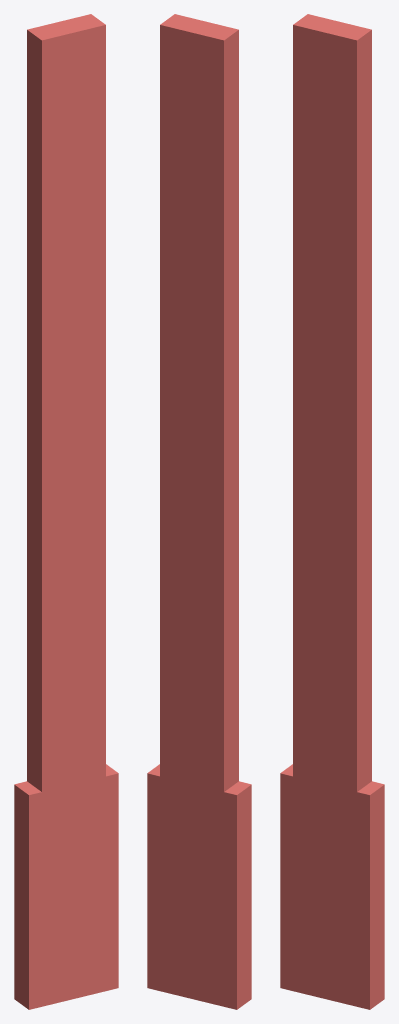
The model's file is DialNeedle.fbx.
3 renders of one model, left to right at view 1: azimuth 30°, elevation 25°; view 2: azimuth 150°, elevation 25°; view 3: azimuth 330°, elevation 25°, orthographic.
Parts seen in each view (by area): view 1: DialNeedle; view 2: DialNeedle; view 3: DialNeedle.
Part boxes in pixels (x1,y1,x2,y2): DialNeedle: (14, 14, 118, 1009); DialNeedle: (147, 14, 251, 1009); DialNeedle: (280, 14, 384, 1009).
Bounding box in the file's own units: 0.07 × 0.72 × 0.02.
